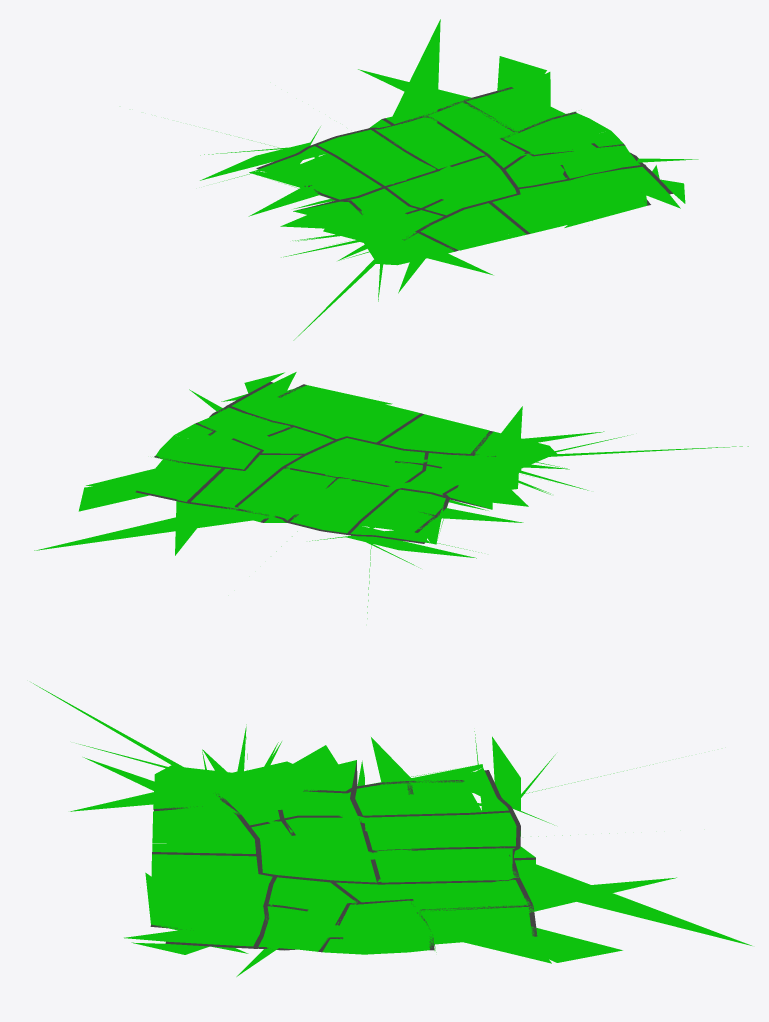
3 renders of one model, top to bottom at view 1: azimuth 30°, elevation 25°; view 2: azimuth 150°, elevation 25°; view 3: azimuth 270°, elevation 25°, orthographic. The views are drawn at different scales.
Bounding box in the file's own units: 599 × 0 × 570.
